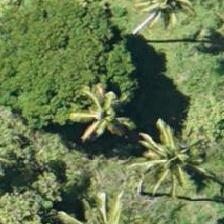coconut_tree: (59, 68, 149, 158), (55, 73, 145, 163), (126, 122, 216, 212)
